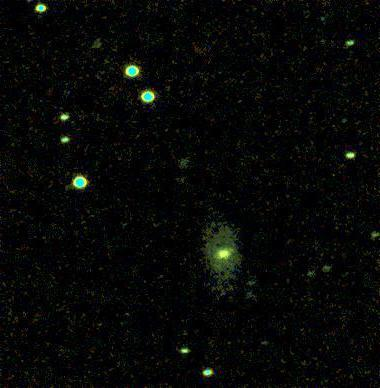star: (218, 234, 248, 264)
